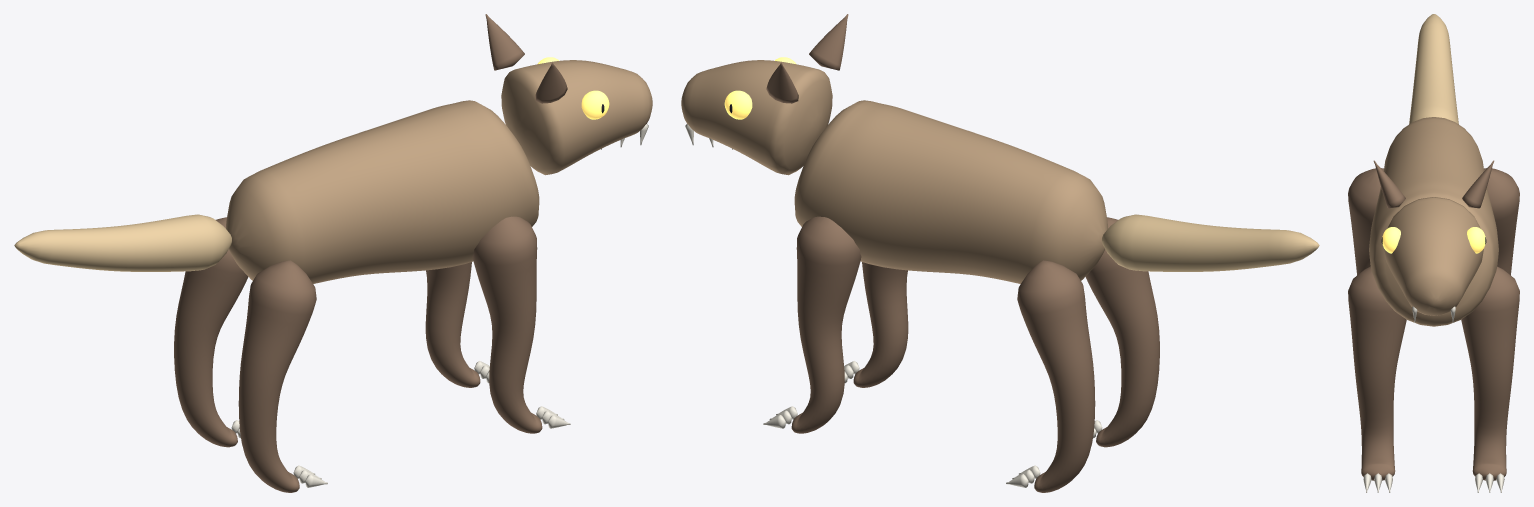
Rendered from mammal.glb.
3 renders of one model, left to right at view 1: azimuth 30°, elevation 25°; view 2: azimuth 150°, elevation 25°; view 3: azimuth 270°, elevation 25°, orthographic. The views are drawn at different scales.
Visible parts, largest first — view 1: Creodont_Torso, Creodont_Head, Leg3_Limb, Leg1_Limb, Creodont_Tail, Leg2_Limb, Leg0_Limb, PointedEar_L, PointedEar_R; view 2: Creodont_Torso, Creodont_Head, Leg2_Limb, Leg0_Limb, Creodont_Tail, Leg3_Limb, Leg1_Limb, PointedEar_R, PointedEar_L; view 3: Creodont_Torso, Creodont_Head, Leg1_Limb, Leg0_Limb, Creodont_Tail, Leg2_Limb, Leg3_Limb, PointedEar_L, PointedEar_R, Eye_L, Eye_R.
Boxes of the visible parts, bbox=[...] form: Creodont_Torso: bbox=[226, 100, 539, 283]; Creodont_Head: bbox=[501, 60, 652, 175]; Leg3_Limb: bbox=[238, 260, 316, 492]; Leg1_Limb: bbox=[472, 216, 542, 433]; Creodont_Tail: bbox=[14, 214, 231, 271]; Leg2_Limb: bbox=[174, 217, 248, 447]; Leg0_Limb: bbox=[425, 262, 480, 387]; PointedEar_L: bbox=[485, 14, 524, 70]; PointedEar_R: bbox=[535, 62, 567, 103]; Creodont_Torso: bbox=[794, 100, 1107, 283]; Creodont_Head: bbox=[681, 60, 832, 175]; Leg2_Limb: bbox=[1017, 260, 1095, 492]; Leg0_Limb: bbox=[791, 216, 861, 433]; Creodont_Tail: bbox=[1102, 214, 1319, 271]; Leg3_Limb: bbox=[1085, 217, 1159, 447]; Leg1_Limb: bbox=[853, 262, 908, 387]; PointedEar_R: bbox=[809, 14, 848, 70]; PointedEar_L: bbox=[766, 62, 798, 103]; Creodont_Torso: bbox=[1369, 117, 1498, 326]; Creodont_Head: bbox=[1384, 197, 1483, 315]; Leg1_Limb: bbox=[1348, 266, 1406, 480]; Leg0_Limb: bbox=[1461, 266, 1519, 480]; Creodont_Tail: bbox=[1409, 14, 1458, 124]; Leg2_Limb: bbox=[1484, 168, 1519, 275]; Leg3_Limb: bbox=[1348, 168, 1383, 275]; PointedEar_L: bbox=[1462, 160, 1494, 208]; PointedEar_R: bbox=[1373, 160, 1405, 208]; Eye_L: bbox=[1467, 227, 1485, 253]; Eye_R: bbox=[1382, 227, 1400, 253].
Size of the model in its own units: 2.25 by 1.24 by 0.5857.
